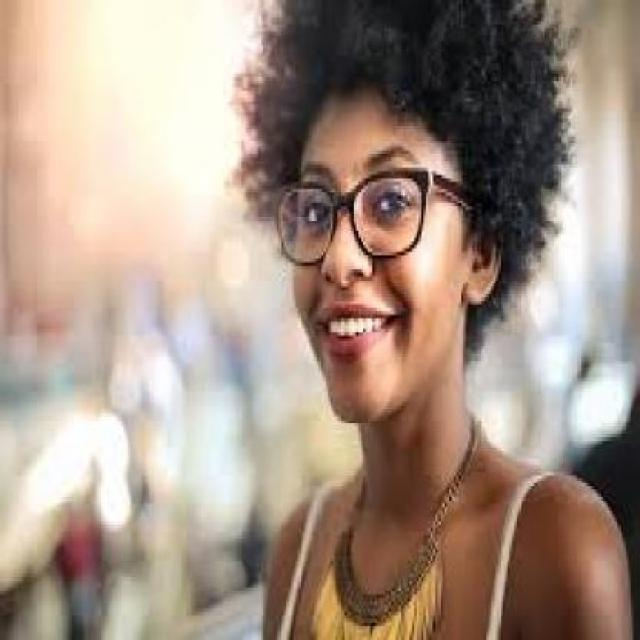mask: (270, 163, 433, 260)
